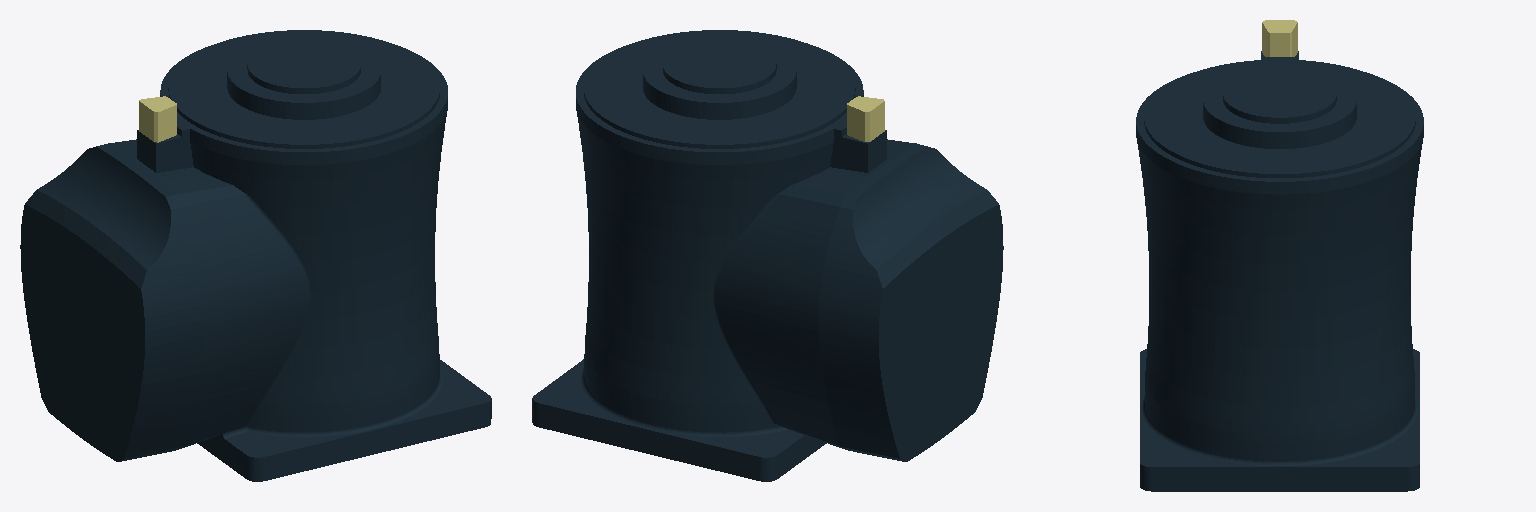
URDF robot description (za):
<?xml version="1.0" ?>
<!-- =================================================================================== -->
<!-- |    This document was autogenerated by xacro from za.xacro                       | -->
<!-- |    EDITING THIS FILE BY HAND IS NOT RECOMMENDED                                 | -->
<!-- =================================================================================== -->
<robot name="za">
  <!-- link list -->
  <link name="base_link">
    <visual>
      <geometry>
        <mesh filename="package://za_description/meshes/base_link.dae"/>
      </geometry>
    </visual>
    <collision>
      <geometry>
        <mesh filename="package://za_description/meshes/base_link_collision.stl"/>
      </geometry>
    </collision>
  </link>
  <link name="link_1">
    <visual>
      <geometry>
        <mesh filename="package://za_description/meshes/link_1.dae"/>
      </geometry>
    </visual>
    <collision>
      <geometry>
        <mesh filename="package://za_description/meshes/link_1_collision.stl"/>
      </geometry>
    </collision>
    <inertial>
      <mass value="100"/>
      <inertia ixx="1.0" ixy="0.0" ixz="0.0" iyy="1.0" iyz="0.0" izz="1.0"/>
    </inertial>
  </link>
  <link name="link_2">
    <visual>
      <geometry>
        <mesh filename="package://za_description/meshes/link_2.dae"/>
      </geometry>
    </visual>
    <collision>
      <geometry>
        <mesh filename="package://za_description/meshes/link_2_collision.stl"/>
      </geometry>
    </collision>
    <inertial>
      <mass value="100"/>
      <inertia ixx="1.0" ixy="0.0" ixz="0.0" iyy="1.0" iyz="0.0" izz="1.0"/>
    </inertial>
  </link>
  <link name="link_3">
    <visual>
      <geometry>
        <mesh filename="package://za_description/meshes/link_3.dae"/>
      </geometry>
    </visual>
    <collision>
      <geometry>
        <mesh filename="package://za_description/meshes/link_3_collision.stl"/>
      </geometry>
    </collision>
    <inertial>
      <mass value="100"/>
      <inertia ixx="1.0" ixy="0.0" ixz="0.0" iyy="1.0" iyz="0.0" izz="1.0"/>
    </inertial>
  </link>
  <link name="link_4">
    <visual>
      <geometry>
        <mesh filename="package://za_description/meshes/link_4.dae"/>
      </geometry>
    </visual>
    <collision>
      <geometry>
        <mesh filename="package://za_description/meshes/link_4_collision.stl"/>
      </geometry>
    </collision>
    <inertial>
      <mass value="100"/>
      <inertia ixx="1.0" ixy="0.0" ixz="0.0" iyy="1.0" iyz="0.0" izz="1.0"/>
    </inertial>
  </link>
  <link name="link_5">
    <visual>
      <geometry>
        <mesh filename="package://za_description/meshes/link_5.dae"/>
      </geometry>
    </visual>
    <collision>
      <geometry>
        <mesh filename="package://za_description/meshes/link_5_collision.stl"/>
      </geometry>
    </collision>
    <inertial>
      <mass value="100"/>
      <inertia ixx="1.0" ixy="0.0" ixz="0.0" iyy="1.0" iyz="0.0" izz="1.0"/>
    </inertial>
  </link>
  <link name="link_6">
    <visual>
      <geometry>
        <mesh filename="package://za_description/meshes/link_6.dae"/>
      </geometry>
    </visual>
    <collision>
      <geometry>
        <mesh filename="package://za_description/meshes/link_6_collision.stl"/>
      </geometry>
    </collision>
    <inertial>
      <mass value="100"/>
      <inertia ixx="1.0" ixy="0.0" ixz="0.0" iyy="1.0" iyz="0.0" izz="1.0"/>
    </inertial>
  </link>
  <!-- joint list -->
  <joint name="joint_1" type="revolute">
    <origin rpy="0.0 0.0 0.0" xyz="0 0 0.45"/>
    <axis xyz="0 0 1"/>
    <parent link="base_link"/>
    <child link="link_1"/>
    <limit effort="1000.0" lower="-2.96" upper="2.96" velocity="2.6"/>
  </joint>
  <joint name="joint_2" type="revolute">
    <origin rpy="0.0 0.0 0.0" xyz="0.025 0 0.0"/>
    <axis xyz="0 1 0"/>
    <parent link="link_1"/>
    <child link="link_2"/>
    <limit effort="1000.0" lower="-1.74" upper="2.35" velocity="1.9"/>
  </joint>
  <joint name="joint_3" type="revolute">
    <origin rpy="0.0 0.0 0.0" xyz="0.0 0.0 0.454"/>
    <axis xyz="0 1 0"/>
    <parent link="link_2"/>
    <child link="link_3"/>
    <limit effort="1000.0" lower="-1.570796" upper="1.15" velocity="2.6"/>
  </joint>
  <joint name="joint_4" type="revolute">
    <origin rpy="0.0 0.0 0.0" xyz="0.0 0.0 0.035"/>
    <axis xyz="1 0 0"/>
    <parent link="link_3"/>
    <child link="link_4"/>
    <limit effort="1000.0" lower="-2.6" upper="2.6" velocity="3.5"/>
  </joint>
  <joint name="joint_5" type="revolute">
    <origin rpy="0.0 0.0 0.0" xyz="0.4195 0.00 0.0"/>
    <axis xyz="0 1 0"/>
    <parent link="link_4"/>
    <child link="link_5"/>
    <limit effort="1000.0" lower="-2.49" upper="2.49" velocity="3.9"/>
  </joint>
  <joint name="joint_6" type="revolute">
    <origin rpy="0.0 0.0 0.0" xyz="0.1 0.0 0.0"/>
    <axis xyz="1 0 0"/>
    <parent link="link_5"/>
    <child link="link_6"/>
    <limit effort="1000.0" lower="-3.141592653589793" upper="3.141592653589793" velocity="6.283185307179586"/>
  </joint>
  <!-- ROS-Industrial 'base' frame: base_link to Fanuc World Coordinates transform -->
  <link name="base"/>
  <joint name="base_link-base" type="fixed">
    <origin rpy="0 0 0" xyz="0 0 0"/>
    <axis xyz="0 0 1"/>
    <parent link="base_link"/>
    <child link="base"/>
  </joint>
  <!-- ROS-Industrial 'flange' frame: attachment point for EEF models -->
  <link name="flange"/>
  <joint name="joint_6-flange" type="fixed">
    <origin rpy="0 0 0" xyz="0 0 0"/>
    <parent link="link_6"/>
    <child link="flange"/>
  </joint>
  <!-- ROS-Industrial 'tool0' frame: all-zeros tool frame -->
  <link name="tool0"/>
  <joint name="link_6_tool0" type="fixed">
    <!-- marker -->
    <origin rpy="0 3.141592653589793 0" xyz="0 0 0"/>
    <parent link="link_6"/>
    <child link="tool0"/>
  </joint>
  <!-- 'world' frame: default pose reference frame -->
  <link name="world"/>
  <joint name="world-base_link" type="fixed">
    <origin rpy="0 0 0" xyz="0 0 0"/>
    <axis xyz="0 0 1"/>
    <parent link="world"/>
    <child link="base_link"/>
  </joint>
</robot>

--- What the picture shows (computed from the rendered views, not written in the file) ---
3 views of the same robot in one strip: view 1: azimuth 30°, elevation 25°; view 2: azimuth 150°, elevation 25°; view 3: azimuth 270°, elevation 25° (orthographic).
Robot: za — 11 links, 10 joints (6 revolute, 4 fixed); root link world; default pose: every joint at zero.
Links seen in each view (by area): view 1: base_link; view 2: base_link; view 3: base_link.
Boxes of the visible links, x1,y1,x2,y2 form: base_link: [20, 30, 491, 481]; base_link: [532, 30, 1003, 481]; base_link: [1136, 20, 1423, 491].
Bounding box of the posed robot: 0.2985 × 0.215 × 0.279 m (x, y, z).
Meshes: 7 distinct files referenced, 1 mesh visuals loaded (1 Collada DAE); not drawn: 6 (reference not matched to a file when rendering).